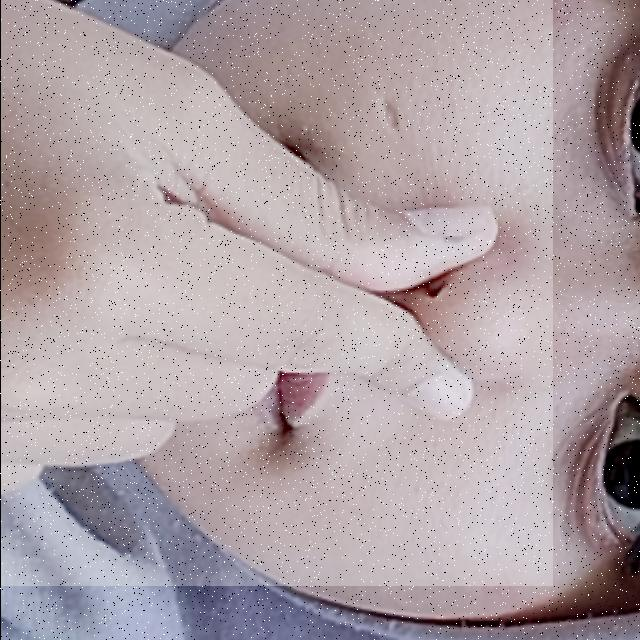bau: (0, 0, 552, 586)
